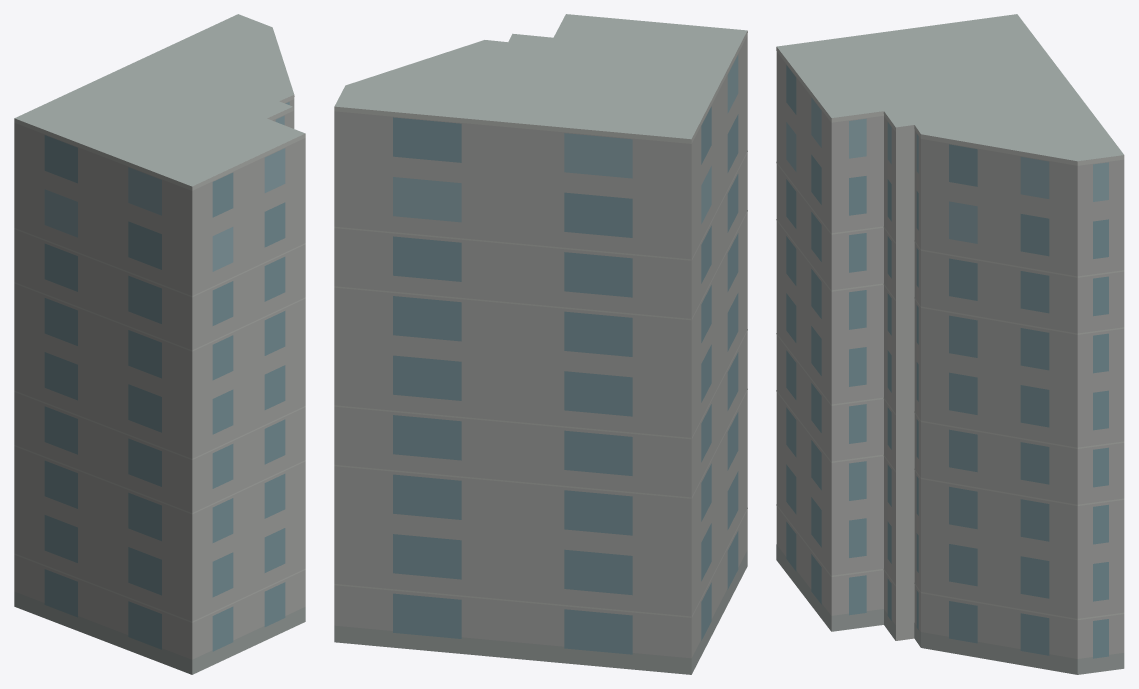
Rendered from survey-upis-32925326.glb.
3 renders of one model, left to right at view 1: azimuth 30°, elevation 25°; view 2: azimuth 150°, elevation 25°; view 3: azimuth 270°, elevation 25°, orthographic. The views are drawn at different scales.
Parts seen in each view (by area): view 1: survey-upis-32925326.tmp; view 2: survey-upis-32925326.tmp; view 3: survey-upis-32925326.tmp.
Part boxes in pixels (<box>): survey-upis-32925326.tmp: <box>14,14,305,674</box>; survey-upis-32925326.tmp: <box>334,14,747,674</box>; survey-upis-32925326.tmp: <box>776,14,1124,674</box>.
Size of the model in its own units: 16.9 by 27.45 by 16.87.
